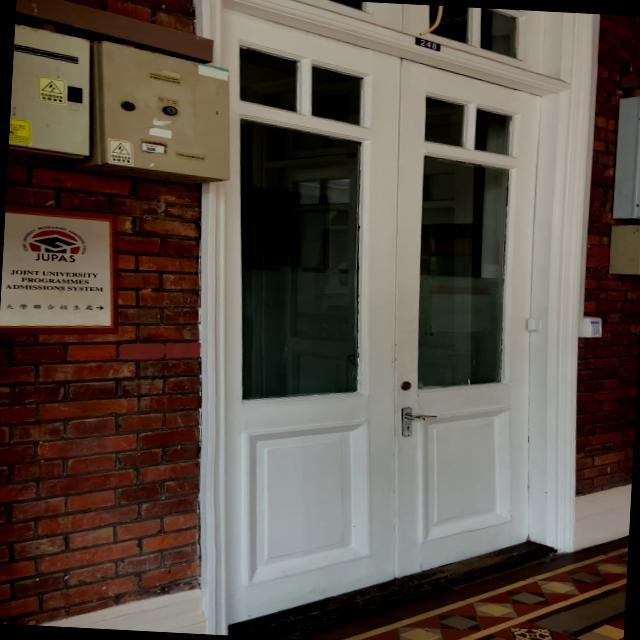room248: (412, 33, 448, 54)
